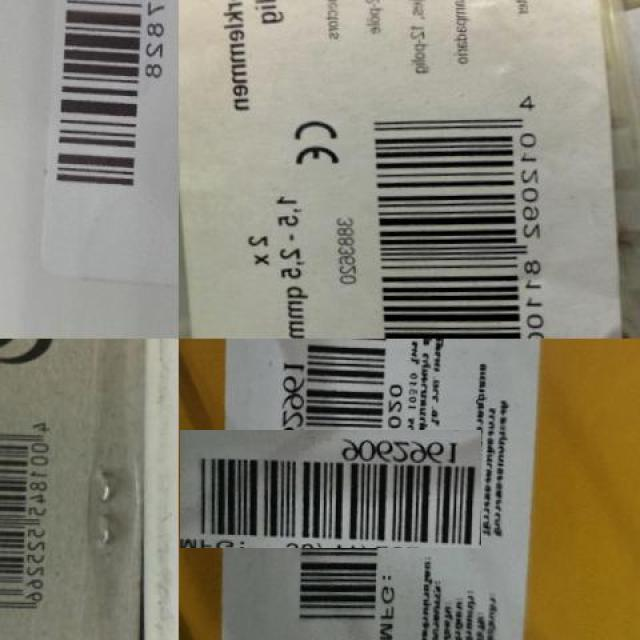Barcode: (356, 77, 575, 339), (225, 384, 435, 594), (48, 0, 168, 211), (0, 406, 63, 622)
